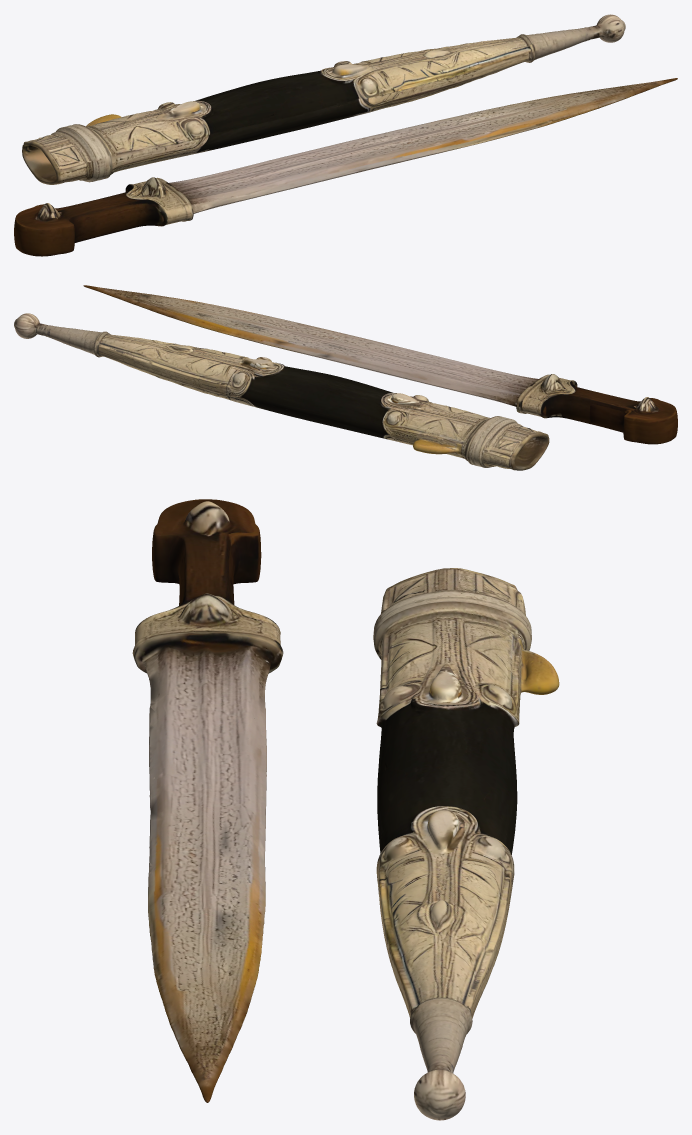
File: 004-kinzhal-v-serebryanyh-nozhnah.glb
3 renders of one model, top to bottom at view 1: azimuth 30°, elevation 25°; view 2: azimuth 150°, elevation 25°; view 3: azimuth 270°, elevation 25°, orthographic. The views are drawn at different scales.
Visible parts, largest first — view 1: node_0; view 2: node_0; view 3: node_0.
Boxes of the visible parts, box(x1,y1,x2,y2) form: node_0: box(14, 14, 677, 256); node_0: box(14, 285, 677, 470); node_0: box(132, 499, 559, 1120).
Bounding box in the file's own units: 1.17 × 0.0824 × 0.3602.
Materials: 1 (1 with a texture image).
